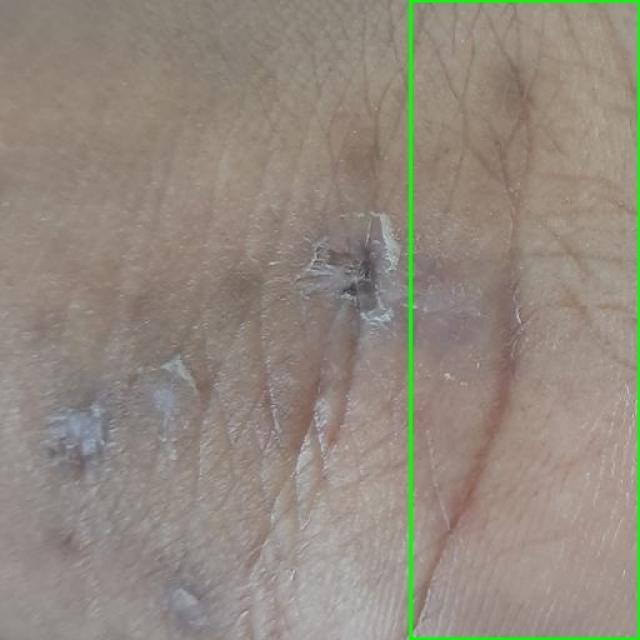Scabies: (410, 0, 639, 639)
